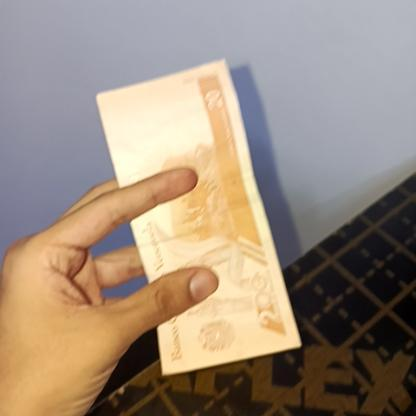twenty-back-vef: (92, 58, 304, 374)
